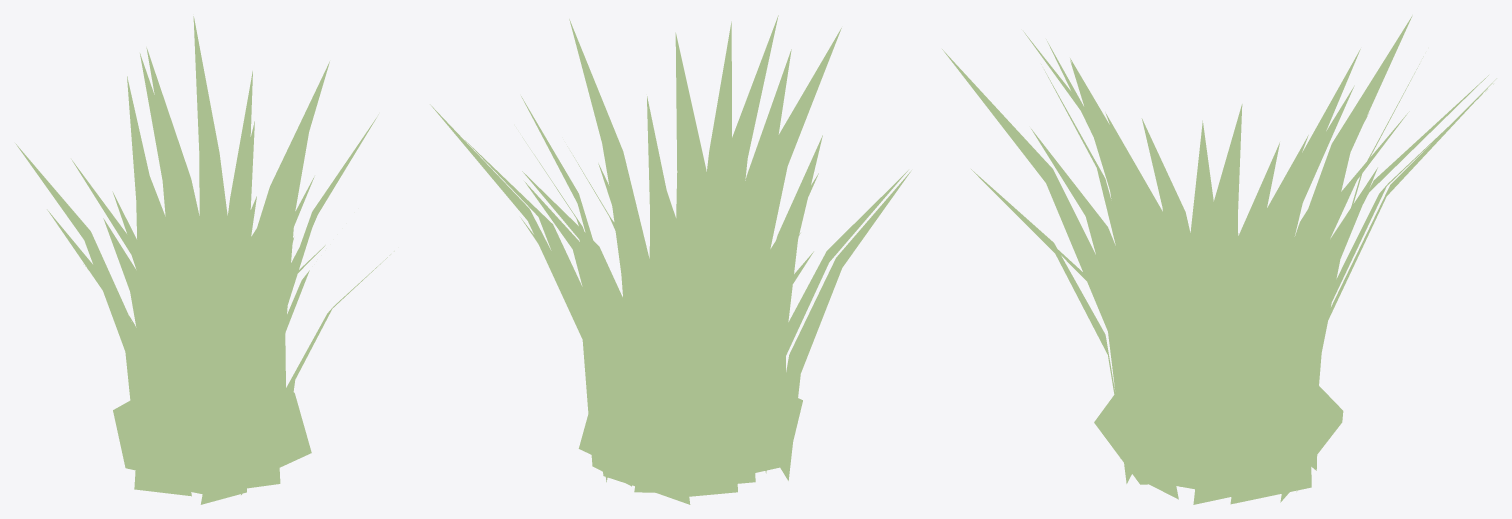
File: Blender_Marram_2.glb
3 views of the same model, side by side, from view 1: azimuth 30°, elevation 25°; view 2: azimuth 150°, elevation 25°; view 3: azimuth 270°, elevation 25° (orthographic). The views are drawn at different scales.
Parts seen in each view (by area): view 1: Blender_Marram_2; view 2: Blender_Marram_2; view 3: Blender_Marram_2.
Boxes of the visible parts, x1,y1,x2,y2 form: Blender_Marram_2: [15, 16, 394, 504]; Blender_Marram_2: [430, 15, 911, 504]; Blender_Marram_2: [942, 15, 1496, 504].
Size of the model in its own units: 0.9072 by 0.9556 by 1.09.
